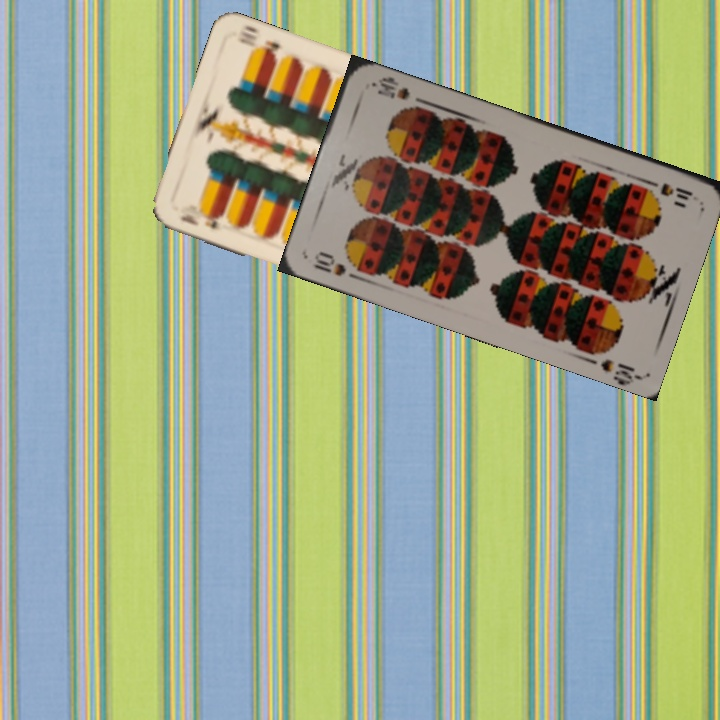E10: (176, 210, 225, 232)
S10: (309, 248, 366, 283), (641, 175, 696, 203)
